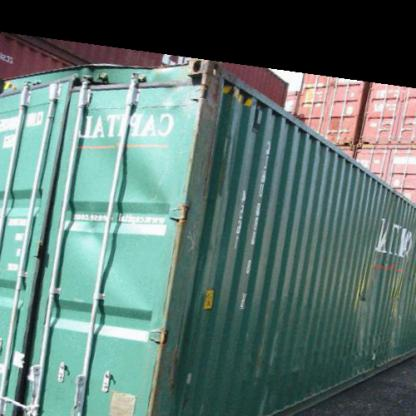Damage: (66, 60, 228, 240), (337, 220, 409, 368), (140, 314, 188, 400)
